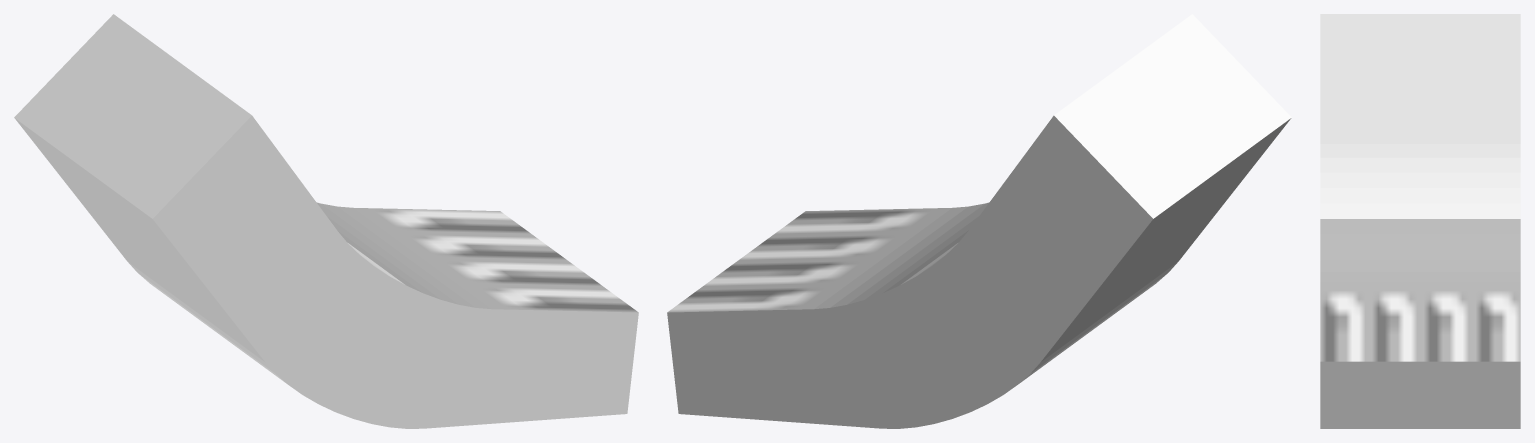
The model's file is lem5_alt.obj.
3 renders of one model, left to right at view 1: azimuth 30°, elevation 25°; view 2: azimuth 150°, elevation 25°; view 3: azimuth 270°, elevation 25°, orthographic. The views are drawn at different scales.
Parts seen in each view (by area): view 1: ColobotMesh_1_ColobotMesh_; view 2: ColobotMesh_1_ColobotMesh_; view 3: ColobotMesh_1_ColobotMesh_.
Part boxes in pixels (left/top/right/bottom): ColobotMesh_1_ColobotMesh_: left=14, top=14, right=638, bottom=428; ColobotMesh_1_ColobotMesh_: left=667, top=14, right=1291, bottom=428; ColobotMesh_1_ColobotMesh_: left=1320, top=14, right=1520, bottom=428.
Size of the model in its own units: 2.03 by 1.55 by 1.
